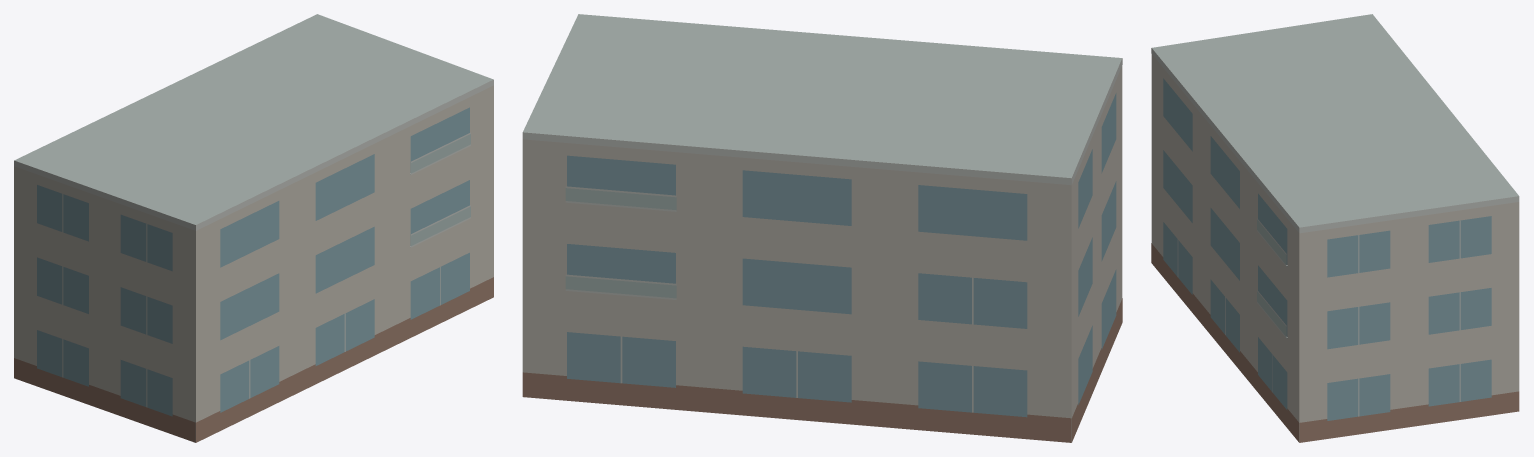
Rendered from survey-upis-32961494.glb.
3 views of the same model, side by side, from view 1: azimuth 30°, elevation 25°; view 2: azimuth 150°, elevation 25°; view 3: azimuth 270°, elevation 25° (orthographic). The views are drawn at different scales.
Parts seen in each view (by area): view 1: survey-upis-32961494.tmp; view 2: survey-upis-32961494.tmp; view 3: survey-upis-32961494.tmp.
Boxes of the visible parts, box(x1,y1,x2,y2) form: survey-upis-32961494.tmp: box(14, 14, 493, 442); survey-upis-32961494.tmp: box(522, 14, 1122, 442); survey-upis-32961494.tmp: box(1151, 14, 1519, 442).
Size of the model in its own units: 19.48 by 9.15 by 14.18.
